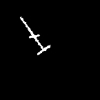double_crochet: (20, 17, 49, 54)
